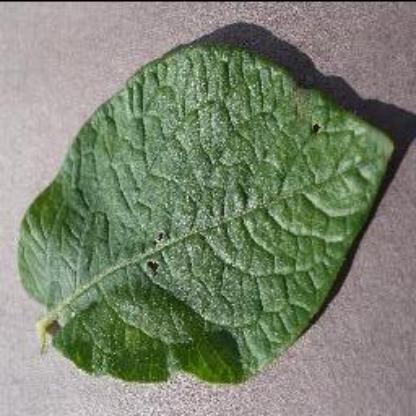Healthy-plant: (13, 40, 406, 390)
